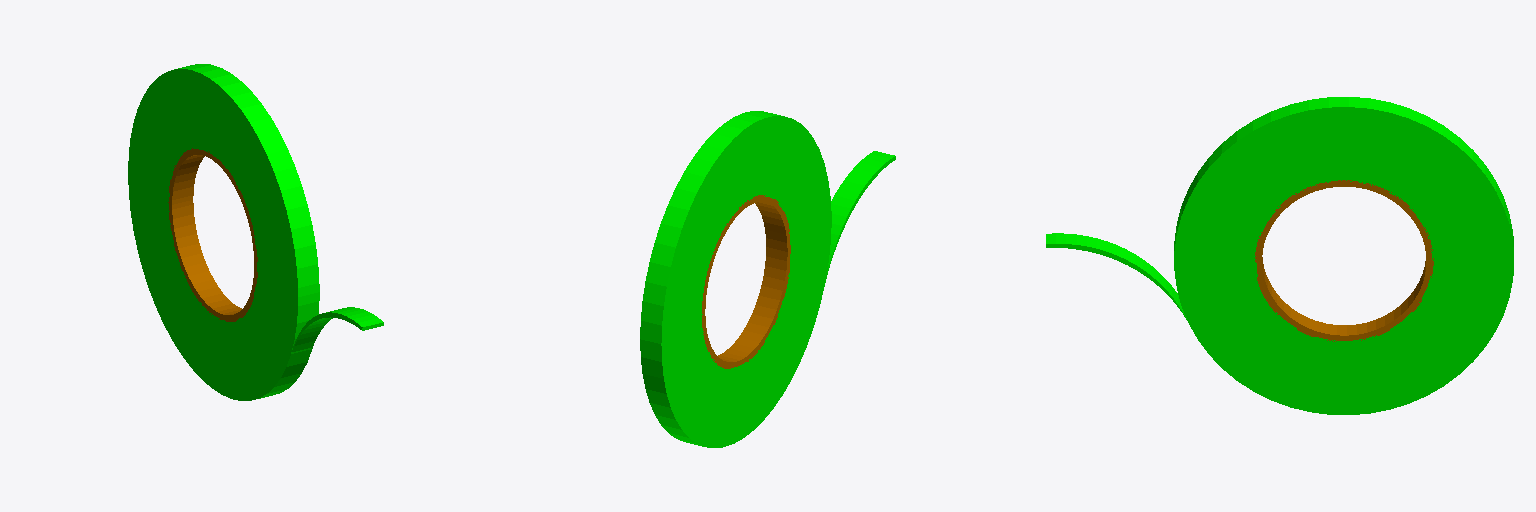
File: tape.obj
3 views of the same model, side by side, from view 1: azimuth 30°, elevation 25°; view 2: azimuth 150°, elevation 25°; view 3: azimuth 270°, elevation 25° (orthographic).
Visible parts, largest first — view 1: |Rolo_de_fita|Root|Fita-1|glossy_rubber, |Rolo_de_fita|Root|Rolo-1|whitesolid; view 2: |Rolo_de_fita|Root|Fita-1|glossy_rubber, |Rolo_de_fita|Root|Rolo-1|whitesolid; view 3: |Rolo_de_fita|Root|Fita-1|glossy_rubber, |Rolo_de_fita|Root|Rolo-1|whitesolid.
Part boxes in pixels (x1,y1,x2,y2): |Rolo_de_fita|Root|Fita-1|glossy_rubber: (128,64,383,400); |Rolo_de_fita|Root|Rolo-1|whitesolid: (168,148,257,321); |Rolo_de_fita|Root|Fita-1|glossy_rubber: (640,111,895,447); |Rolo_de_fita|Root|Rolo-1|whitesolid: (702,195,790,368); |Rolo_de_fita|Root|Fita-1|glossy_rubber: (1046,97,1513,414); |Rolo_de_fita|Root|Rolo-1|whitesolid: (1255,180,1433,341).
Size of the model in its own units: 0.012 by 0.1655 by 0.2281.